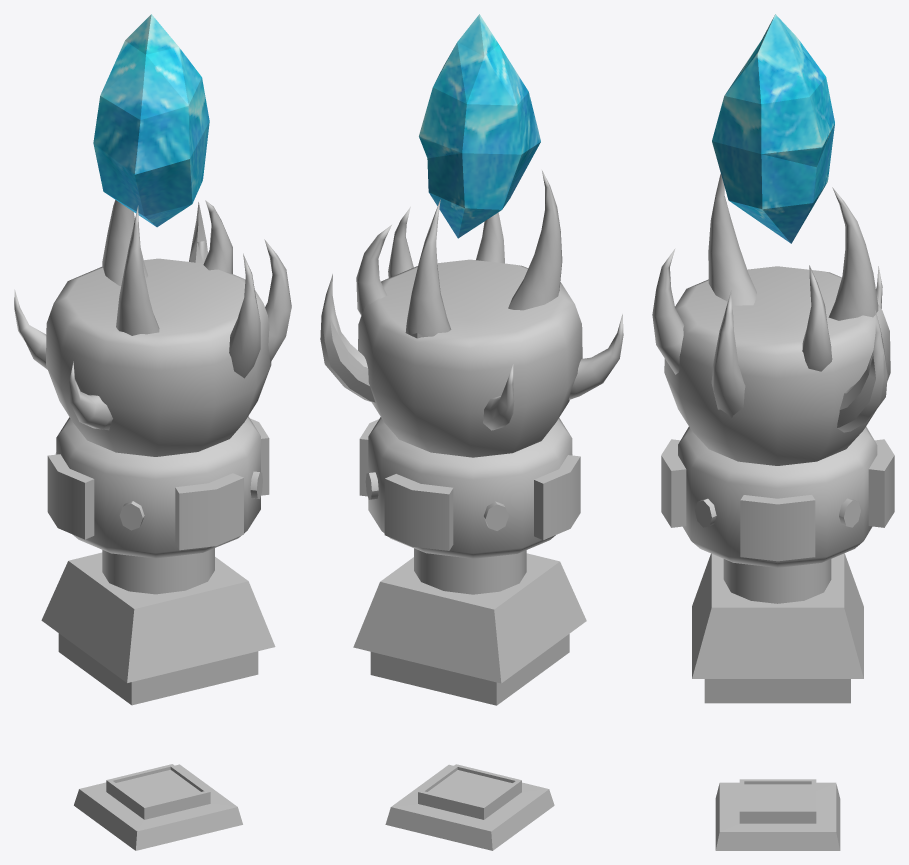
File: Tower_blue.FBX
3 renders of one model, left to right at view 1: azimuth 30°, elevation 25°; view 2: azimuth 150°, elevation 25°; view 3: azimuth 270°, elevation 25°, orthographic.
Visible parts, largest first — view 1: Tower_hanbingta_blue, Tower_hanbingta_blue_crystal; view 2: Tower_hanbingta_blue, Tower_hanbingta_blue_crystal; view 3: Tower_hanbingta_blue, Tower_hanbingta_blue_crystal.
Boxes of the visible parts, x1,y1,x2,y2 form: Tower_hanbingta_blue: (14, 200, 291, 850); Tower_hanbingta_blue_crystal: (93, 14, 209, 227); Tower_hanbingta_blue: (320, 170, 623, 850); Tower_hanbingta_blue_crystal: (419, 14, 540, 238); Tower_hanbingta_blue: (652, 173, 894, 850); Tower_hanbingta_blue_crystal: (712, 14, 834, 243).
Size of the model in its own units: 179 by 604 by 164.
